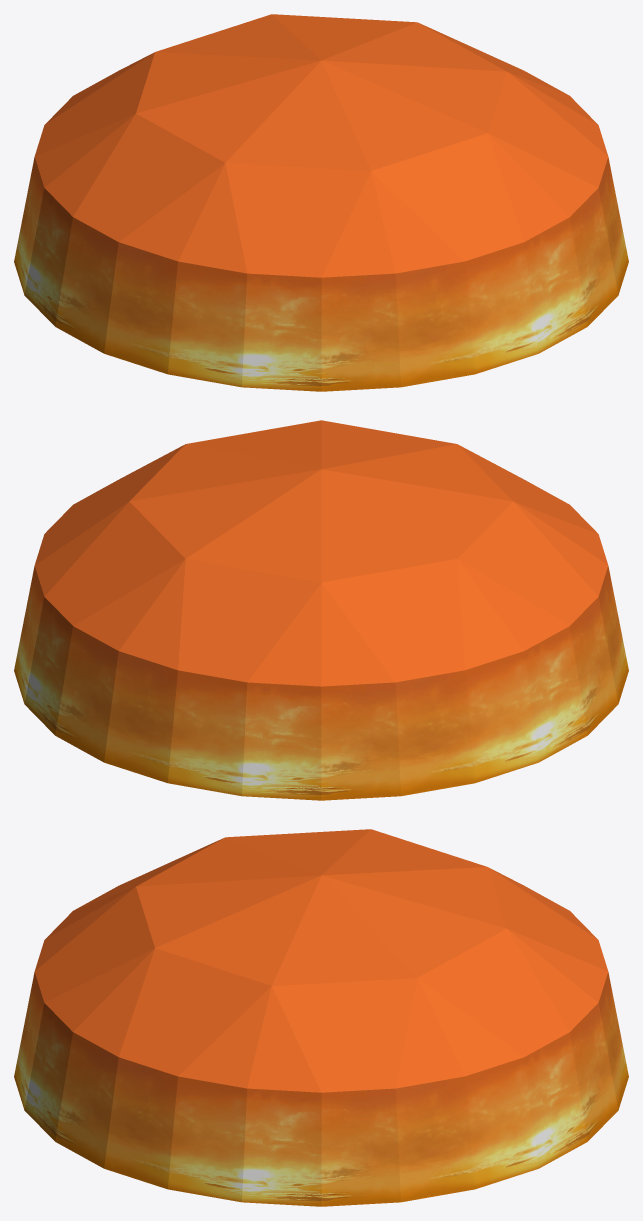
Rendered from Seaside Hill 7.fbx.
3 renders of one model, top to bottom at view 1: azimuth 30°, elevation 25°; view 2: azimuth 150°, elevation 25°; view 3: azimuth 270°, elevation 25°, orthographic.
Visible parts, largest first — view 1: Seaside hill 7; view 2: Seaside hill 7; view 3: Seaside hill 7.
Boxes of the visible parts, x1,y1,x2,y2 form: Seaside hill 7: [14, 14, 628, 391]; Seaside hill 7: [14, 420, 628, 800]; Seaside hill 7: [14, 829, 628, 1206].
Size of the model in its own units: 10000000 by 3644222 by 9999999.
